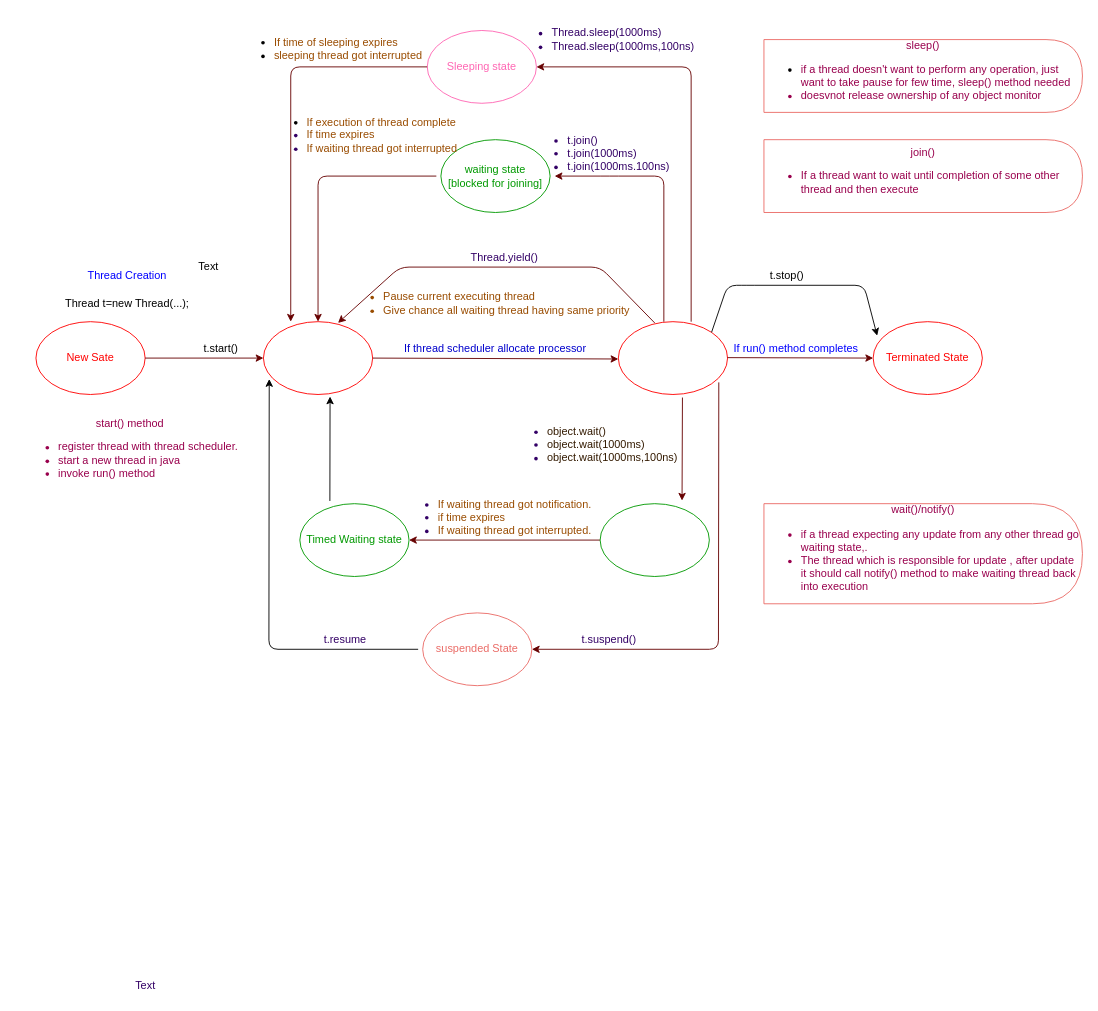
Some shapes in this 1098 by 1011 pixel diagram are drawn without their labels. Here are the shapes that lost their labels. From the top down, the centre of each, then its label:
At (318,357): "Ready/Runnable State".
At (672,357): "Running State".
At (654,539): "waiting state".
